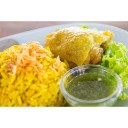briyani: (1, 34, 114, 105)
